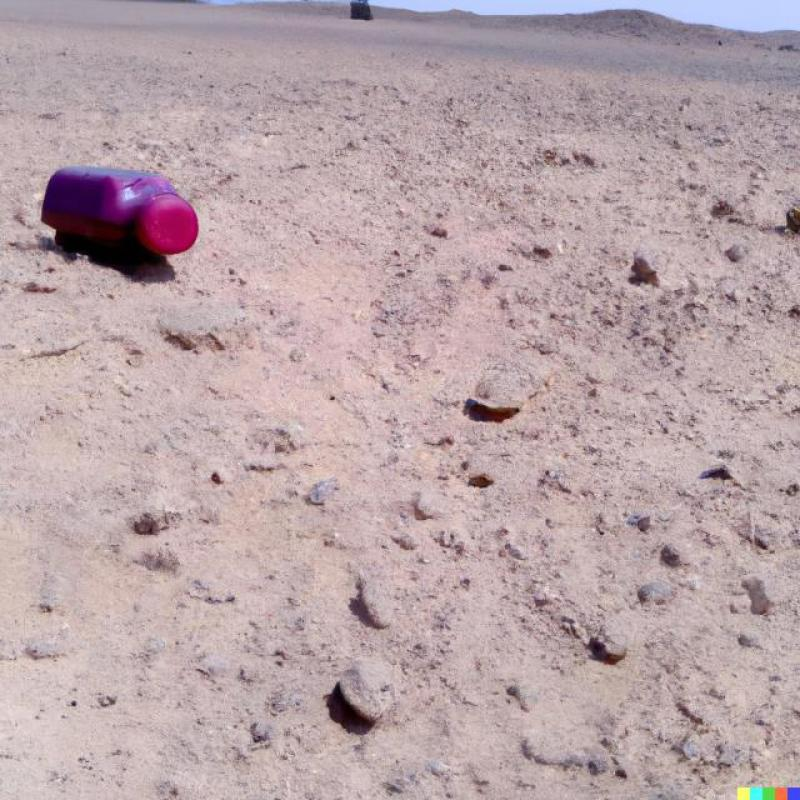botella: (41, 165, 200, 270)
